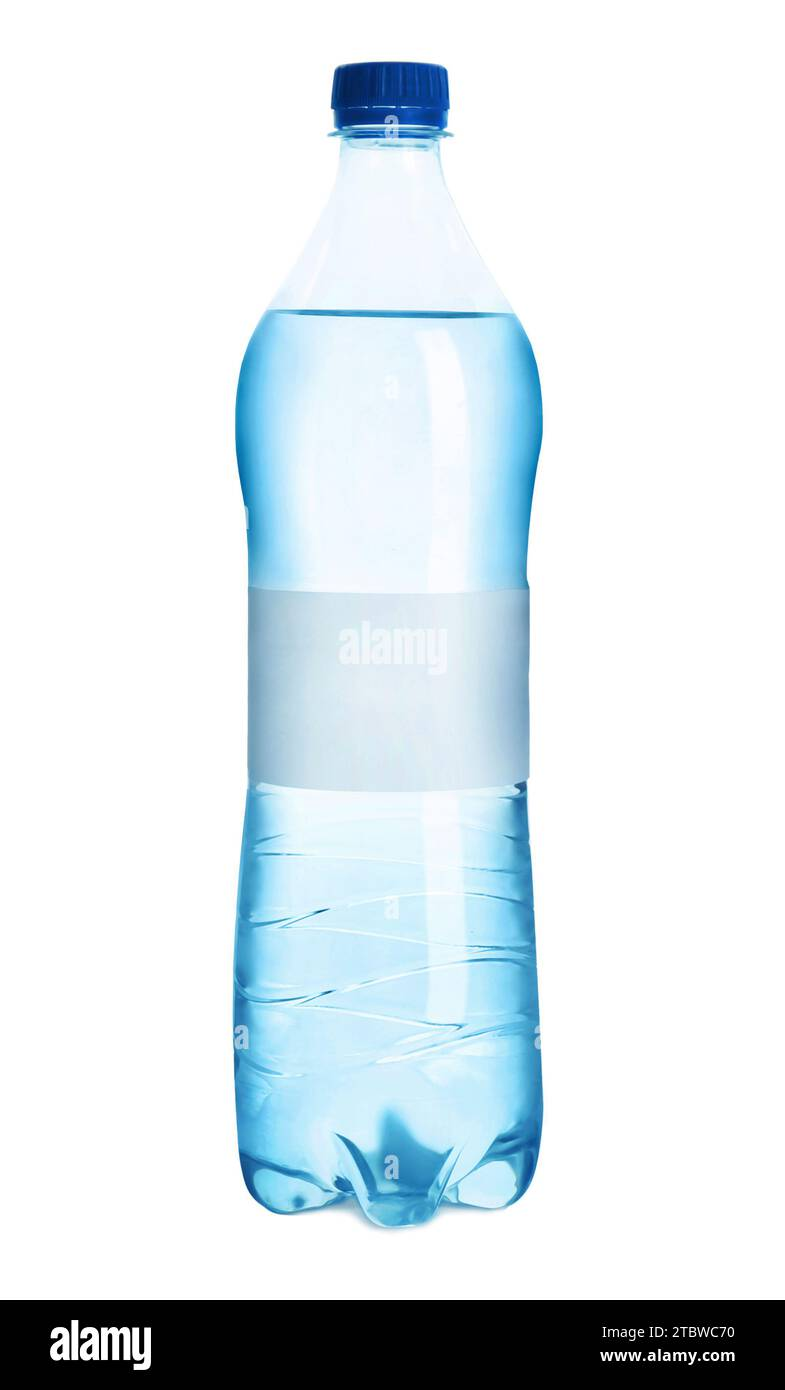bottle: (214, 46, 566, 1237)
